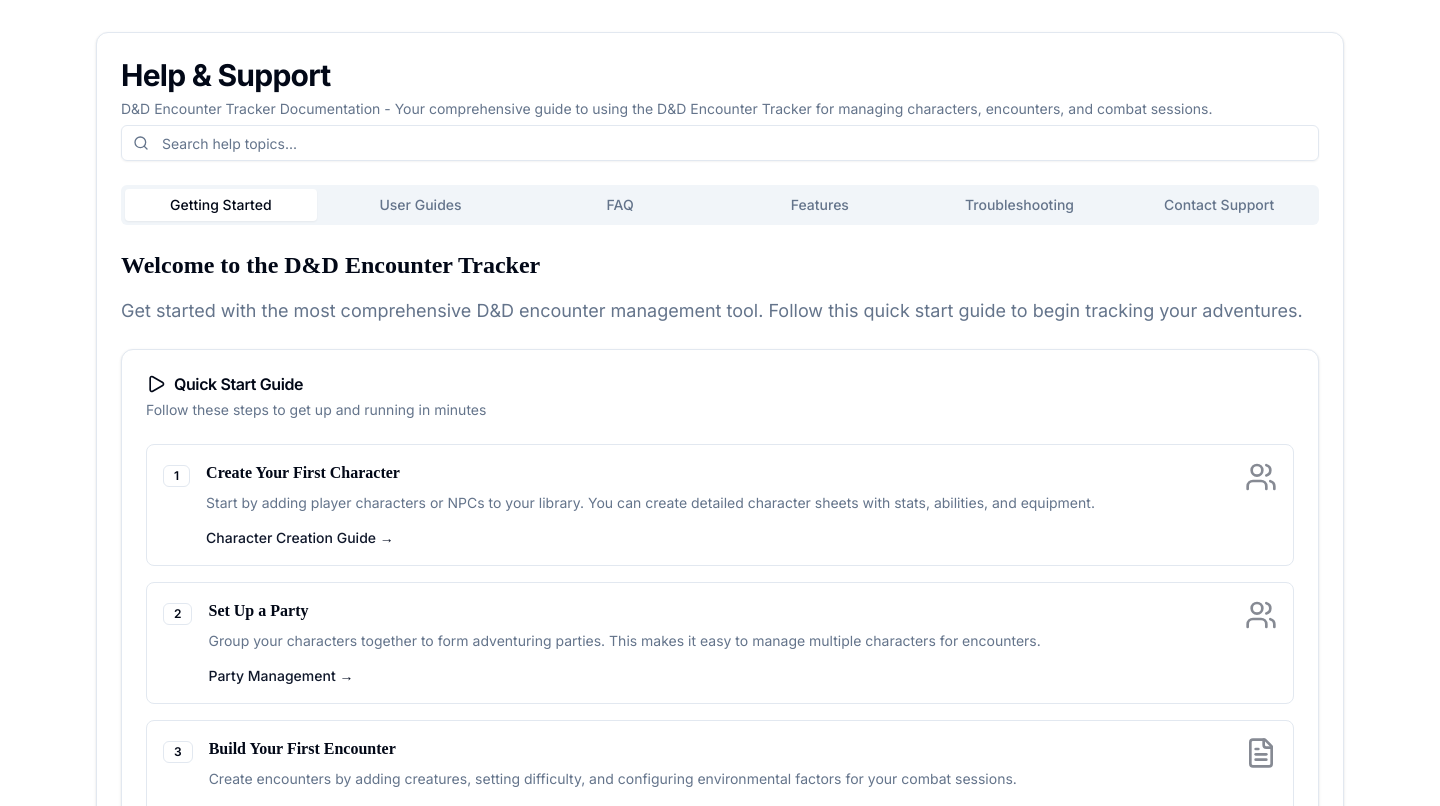
it: HelpPage Component › FAQ Section › displays FAQ content when tab is selected
Click the tab "FAQ": (620, 205) left=524, top=189, right=716, bottom=221
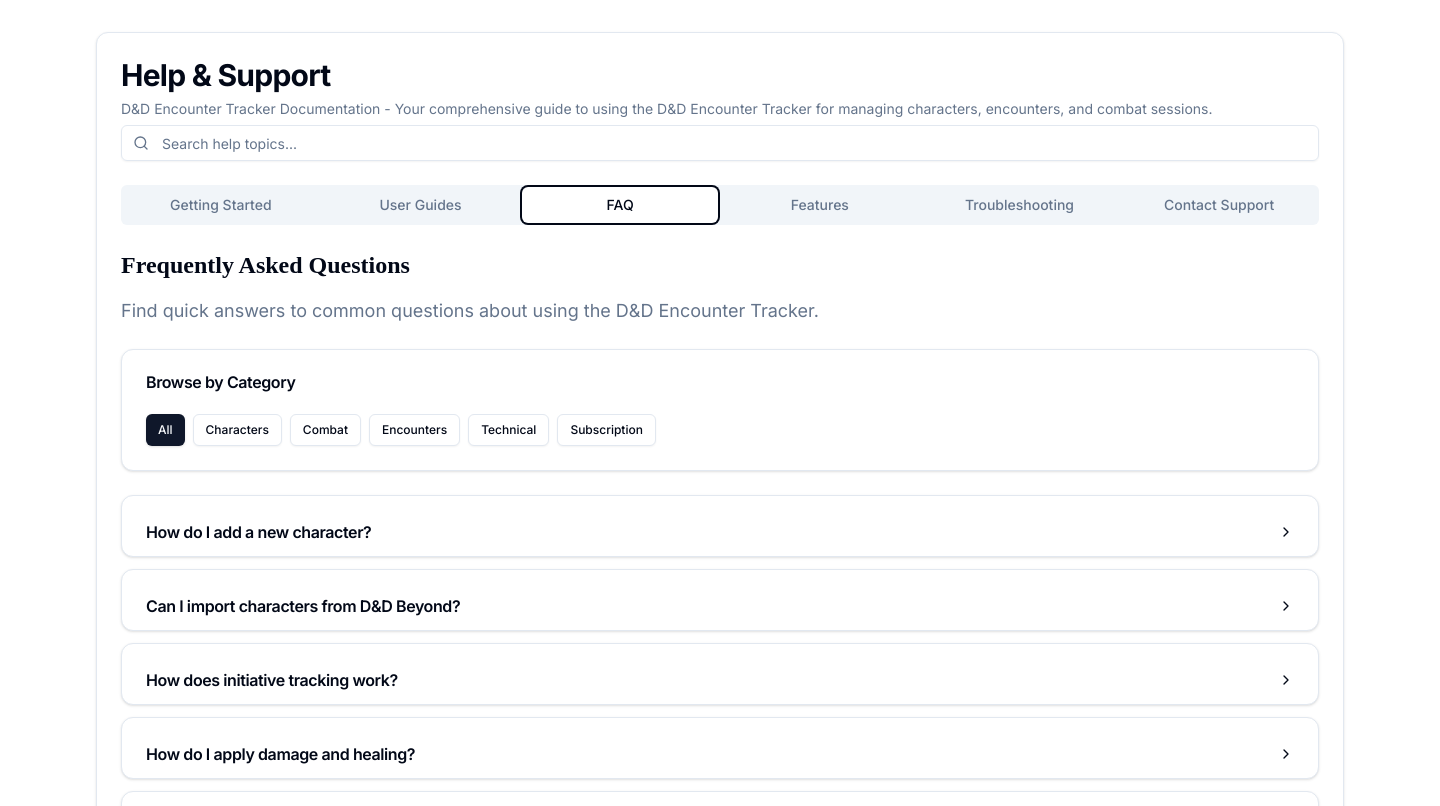
Now the heading "Frequently Asked Questions" is shown, box left=121, top=252, right=410, bottom=278
Now the text "How do I add a new character?" is shown, box left=146, top=520, right=371, bottom=544
Now the text "Can I import characters from D&D Beyond?" is shown, box left=146, top=594, right=460, bottom=618
